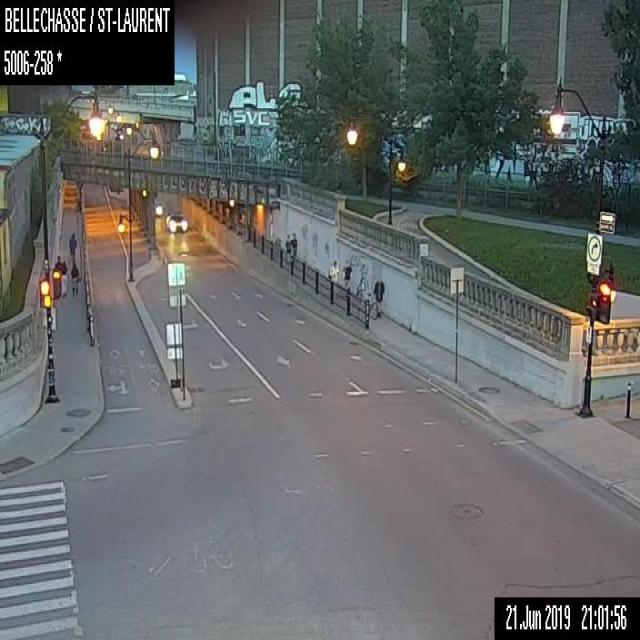pedestrian: (362, 276, 385, 319), (70, 262, 80, 296), (328, 258, 339, 286), (54, 255, 61, 296), (68, 231, 77, 262), (342, 258, 351, 288), (61, 259, 68, 296), (356, 276, 364, 299), (290, 231, 297, 255), (284, 233, 290, 255)
vehicle: (165, 213, 188, 231)
